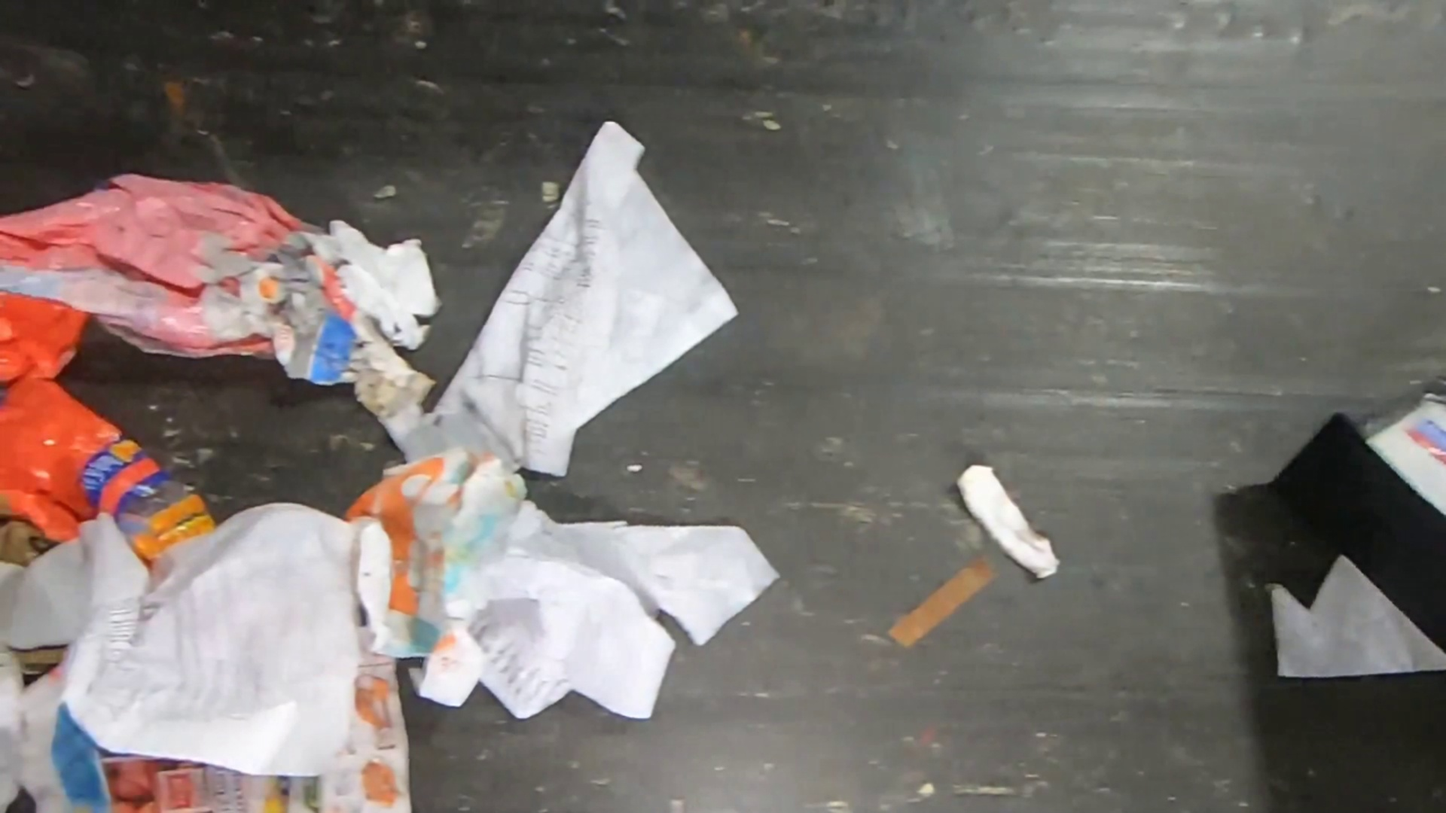plastic: (0, 173, 320, 575), (1276, 369, 1446, 540)
